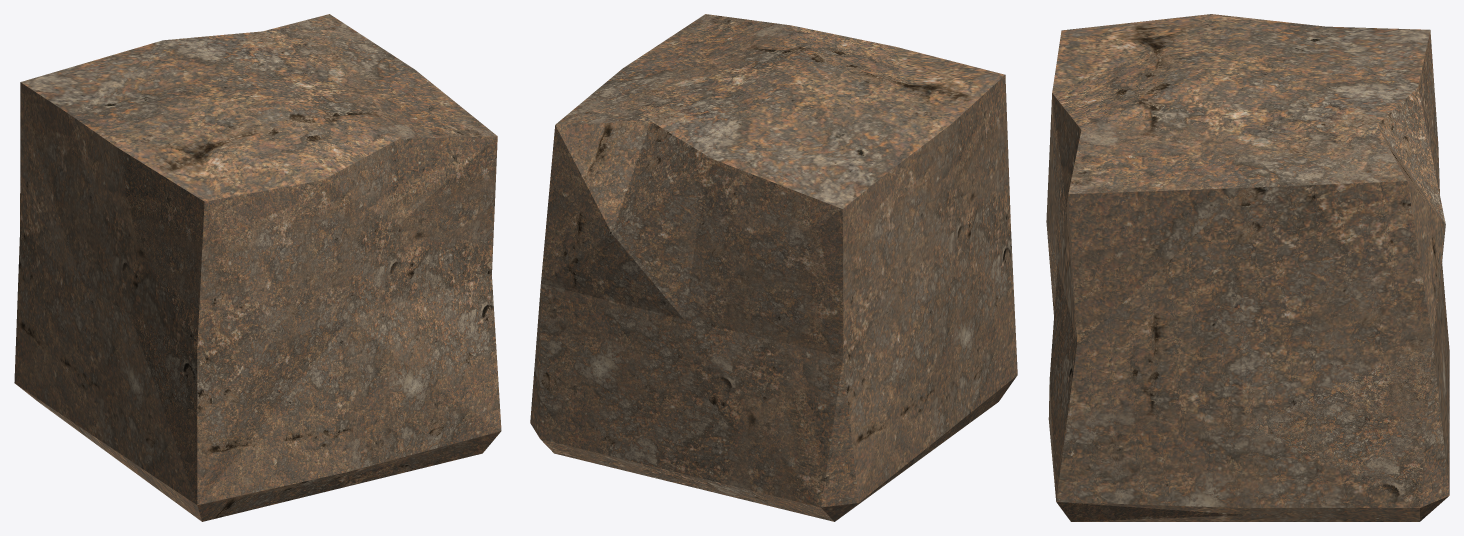
Rendered from rock.fbx.
The picture shows the model from 3 angles, left to right: view 1: azimuth 30°, elevation 25°; view 2: azimuth 150°, elevation 25°; view 3: azimuth 270°, elevation 25°; orthographic projection. The views are drawn at different scales.
Visible parts, largest first — view 1: Cube.000; view 2: Cube.000; view 3: Cube.000.
Boxes of the visible parts, box(x1,y1,x2,y2) form: Cube.000: box(14, 14, 501, 521); Cube.000: box(530, 14, 1017, 521); Cube.000: box(1046, 14, 1449, 521).
Size of the model in its own units: 200 by 200 by 200.
